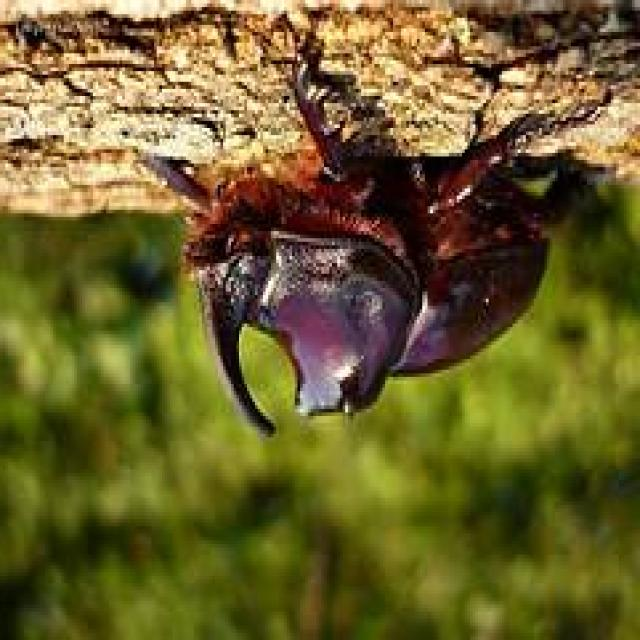Rhino-beetle: (178, 139, 562, 443)
